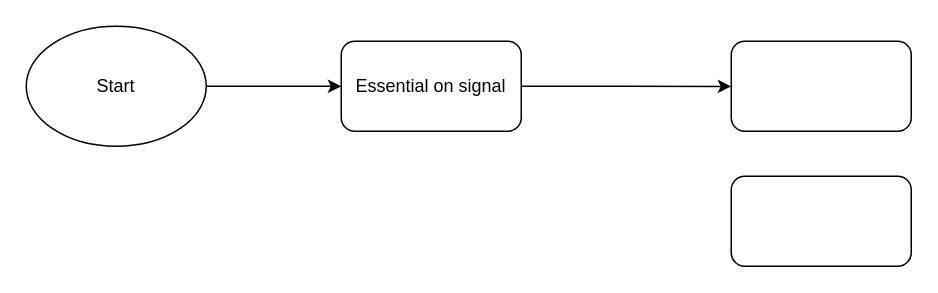
The diagram is 938 pixels wide and 293 high, and some of its shapes have lost their labels. The box of each missing label's shape, as (x1, y1, x2, y2) in pixels:
turn HVAC systems: (730, 175, 911, 266)
turn on essential lights: (730, 40, 911, 131)
